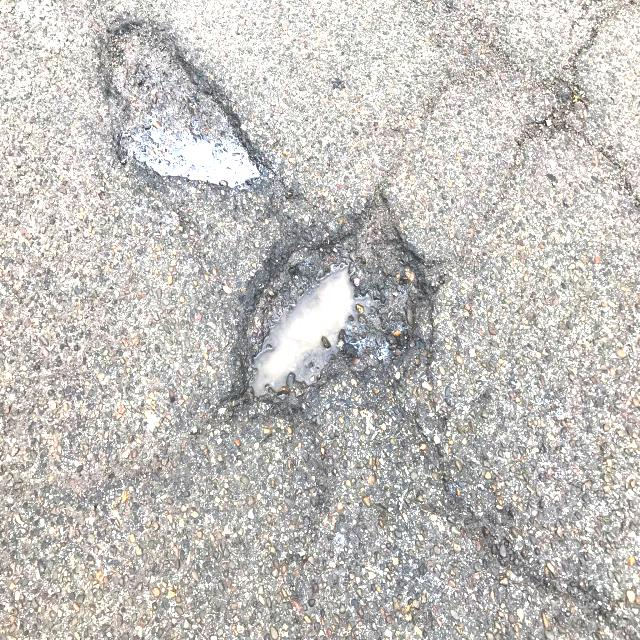Pothole: (96, 13, 440, 446)
